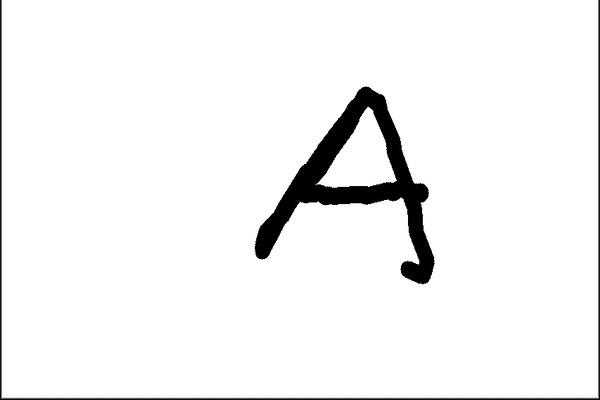A: (236, 79, 444, 297)
